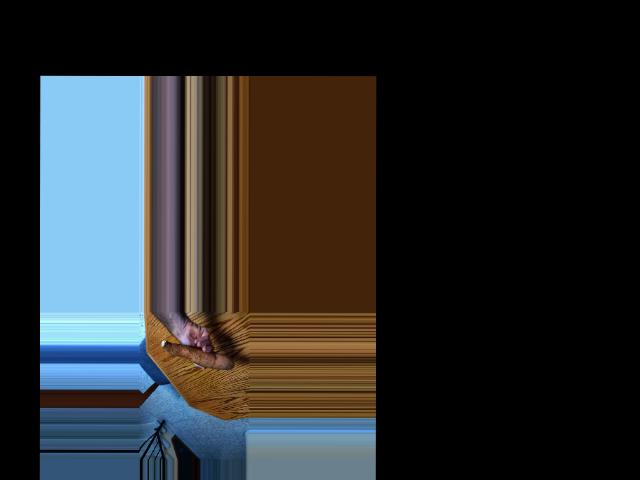sweet_potato: (161, 333, 231, 373)
